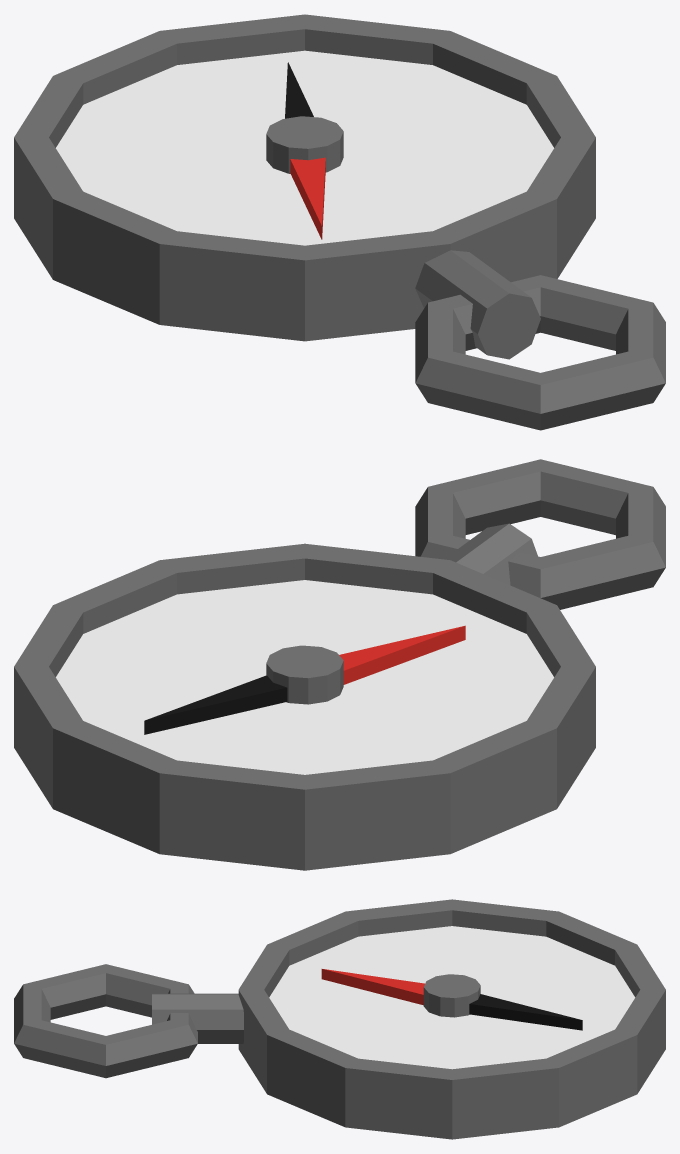
Rendered from Boussole.fbx.
3 views of the same model, one above another, from view 1: azimuth 30°, elevation 25°; view 2: azimuth 150°, elevation 25°; view 3: azimuth 270°, elevation 25° (orthographic). The views are drawn at different scales.
Visible parts, largest first — view 1: Circle; view 2: Circle; view 3: Circle.
Part boxes in pixels (left/top/right/bottom): Circle: left=14, top=14, right=665, bottom=430; Circle: left=14, top=459, right=665, bottom=870; Circle: left=14, top=899, right=665, bottom=1139.
Bounding box in the file's own units: 147 × 23.88 × 224.
